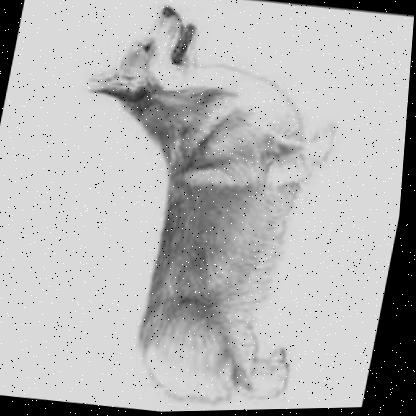dog: (25, 0, 362, 415)
